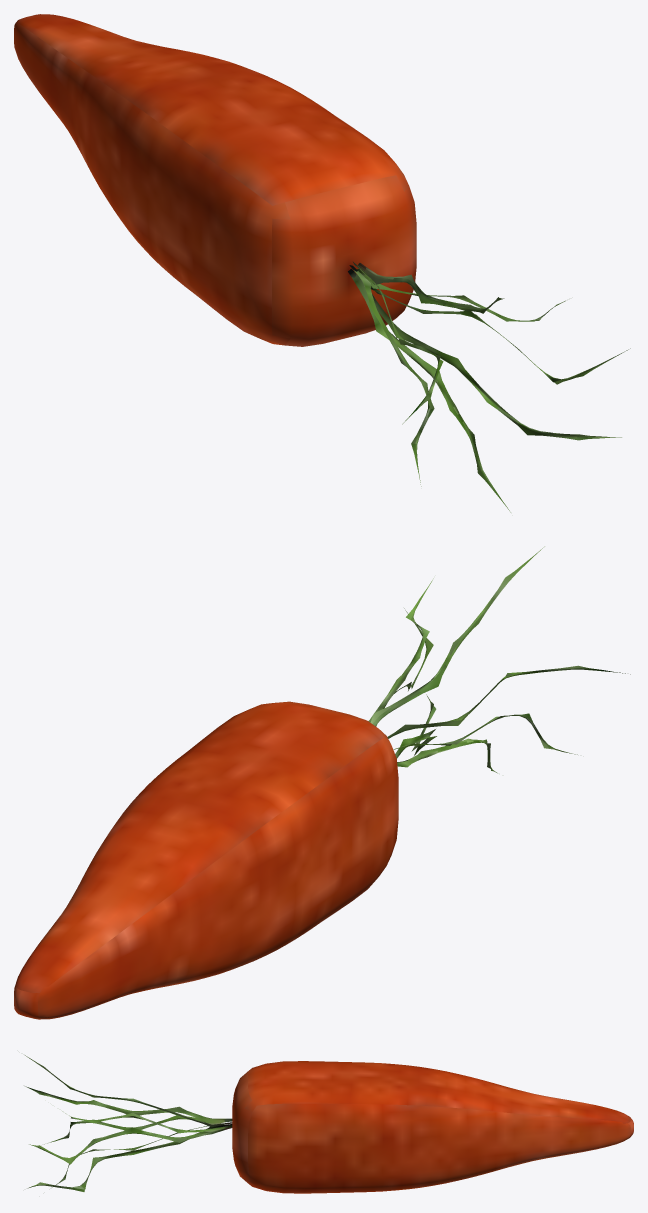
Rendered from carrot.obj.
The picture shows the model from 3 angles, top to bottom: view 1: azimuth 30°, elevation 25°; view 2: azimuth 150°, elevation 25°; view 3: azimuth 270°, elevation 25°; orthographic projection. The views are drawn at different scales.
Parts seen in each view (by area): view 1: default; view 2: default; view 3: default.
Part boxes in pixels (x1,y1,x2,y2): default: (14,14,630,512); default: (14,546,630,1019); default: (25,1055,633,1193).
Size of the model in its own units: 0.00103 by 0.000978 by 0.00386.
Materials: 1 (1 with a texture image).
